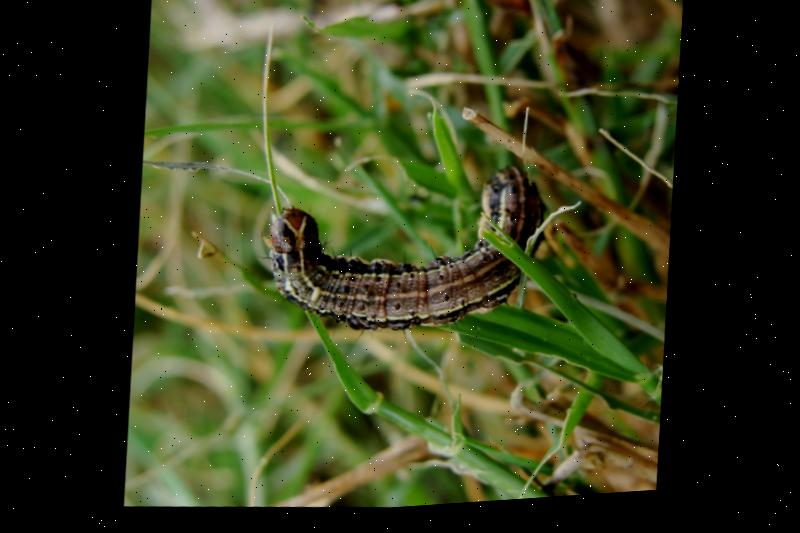fall-armyworm: (261, 174, 543, 336)
